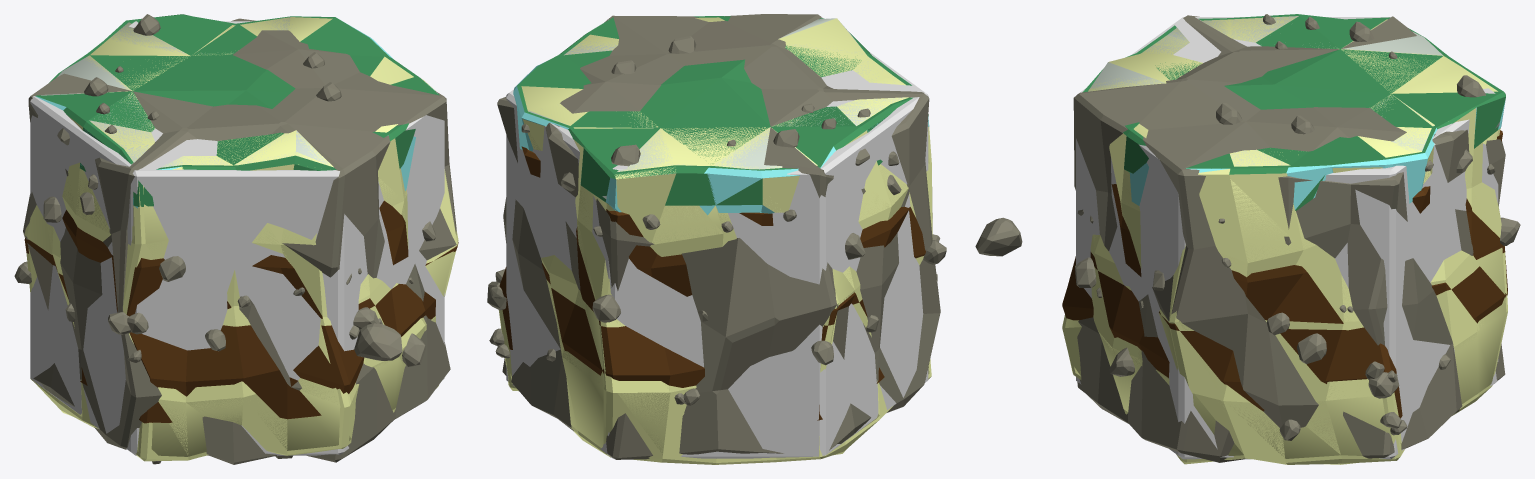
File: dirt tile.fbx
3 renders of one model, left to right at view 1: azimuth 30°, elevation 25°; view 2: azimuth 150°, elevation 25°; view 3: azimuth 270°, elevation 25°, orthographic.
Visible parts, largest first — view 1: size base, stone.001, top.001, send, stone base, bottom.001, top.002, stone.002, top, texture base.001|stone.002|Dupli|23, texture base.001|stone.002|Dupli|10; view 2: stone.001, size base, top.001, stone base, send, bottom.001, top.002, top, bottom.001|stone.002|Dupli|5, texture base.001|stone.002|Dupli|5; view 3: stone.001, stone base, size base, send, top.001, bottom.001, top.002, top, stone.002, bottom.001|stone.002|Dupli|14, bottom.001|stone.002|Dupli|20, bottom.001|stone.002|Dupli|34.
Boxes of the visible parts, bbox=[...] form: size base: bbox=[30, 21, 444, 455]; stone.001: bbox=[23, 18, 456, 464]; top.001: bbox=[36, 14, 439, 206]; send: bbox=[27, 17, 454, 456]; stone base: bbox=[24, 78, 458, 461]; bottom.001: bbox=[24, 200, 458, 423]; top.002: bbox=[41, 17, 330, 167]; stone.002: bbox=[354, 323, 402, 360]; top: bbox=[35, 20, 437, 208]; texture base.001|stone.002|Dupli|23: bbox=[402, 333, 425, 366]; texture base.001|stone.002|Dupli|10: bbox=[159, 256, 185, 281]; stone.001: bbox=[497, 14, 940, 459]; size base: bbox=[506, 17, 928, 458]; top.001: bbox=[517, 16, 928, 205]; stone base: bbox=[498, 119, 932, 464]; send: bbox=[502, 17, 929, 462]; bottom.001: bbox=[499, 146, 925, 420]; top.002: bbox=[528, 18, 904, 199]; top: bbox=[513, 60, 929, 215]; bottom.001|stone.002|Dupli|5: bbox=[592, 294, 620, 322]; texture base.001|stone.002|Dupli|5: bbox=[611, 144, 640, 164]; stone.001: bbox=[1073, 15, 1505, 462]; stone base: bbox=[1062, 108, 1507, 464]; size base: bbox=[1076, 17, 1498, 459]; send: bbox=[1065, 16, 1506, 464]; top.001: bbox=[1083, 14, 1505, 210]; bottom.001: bbox=[1062, 130, 1507, 418]; top.002: bbox=[1088, 16, 1499, 166]; top: bbox=[1129, 30, 1505, 209]; stone.002: bbox=[975, 217, 1022, 256]; bottom.001|stone.002|Dupli|14: bbox=[1297, 333, 1326, 364]; bottom.001|stone.002|Dupli|20: bbox=[1368, 372, 1399, 398]; bottom.001|stone.002|Dupli|34: bbox=[1075, 257, 1096, 287].
Size of the model in its own units: 197 by 170 by 256.
